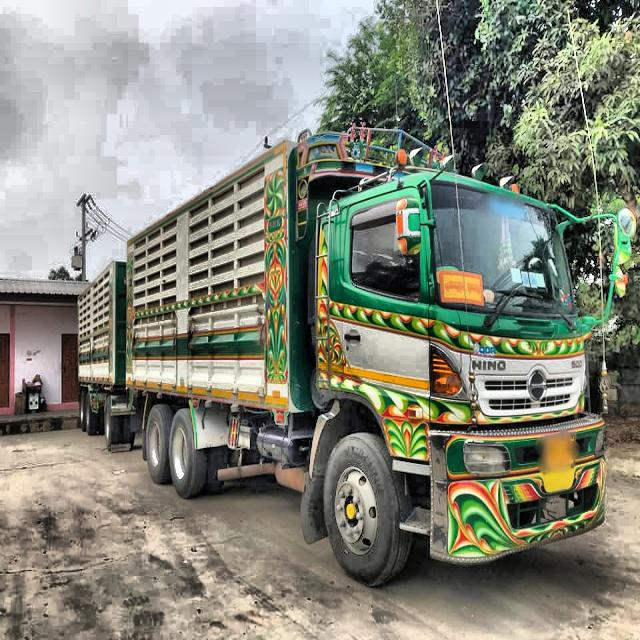trailer: (67, 115, 615, 596)
